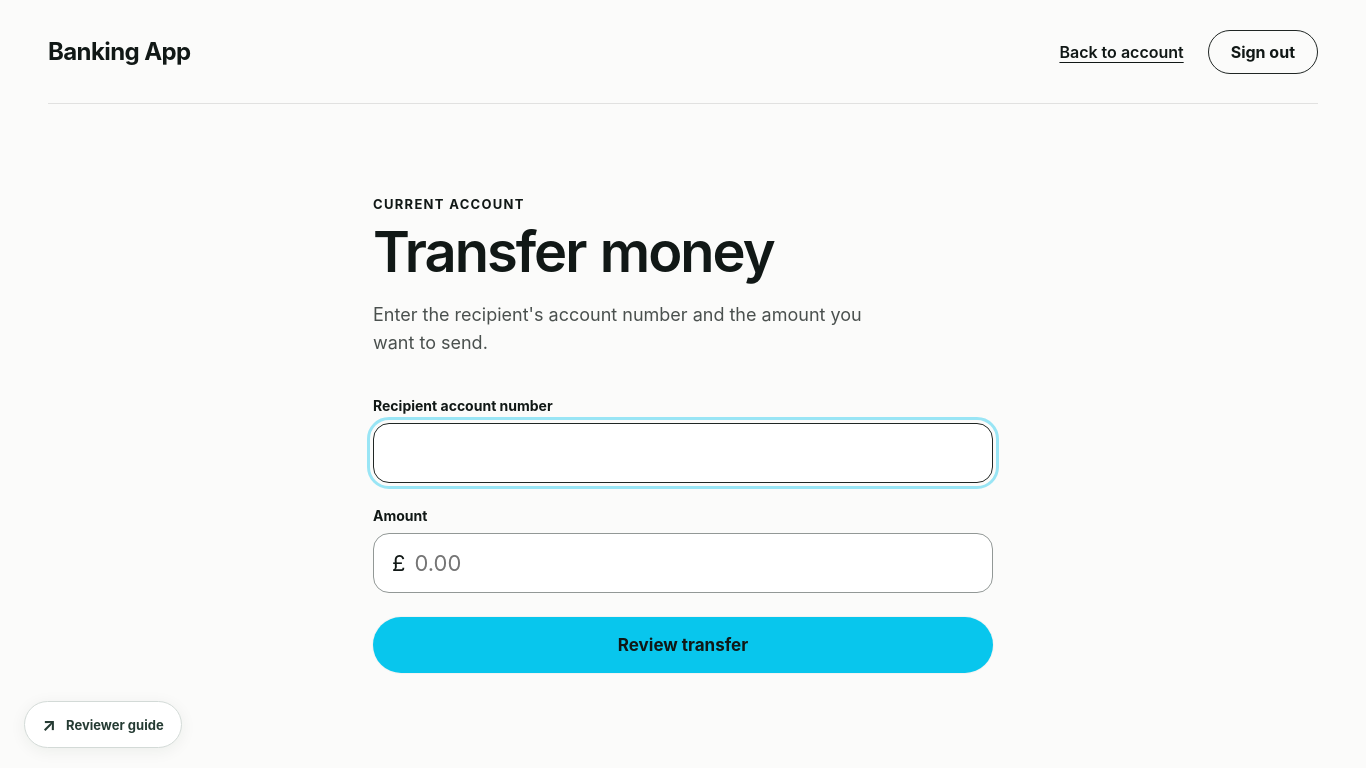
Scenario: transfer flow › sends the transfer and returns to the account with a confirmation
Type "61504" into the field labelled "Recipient account number" at (683, 453), box [373, 423, 993, 483]
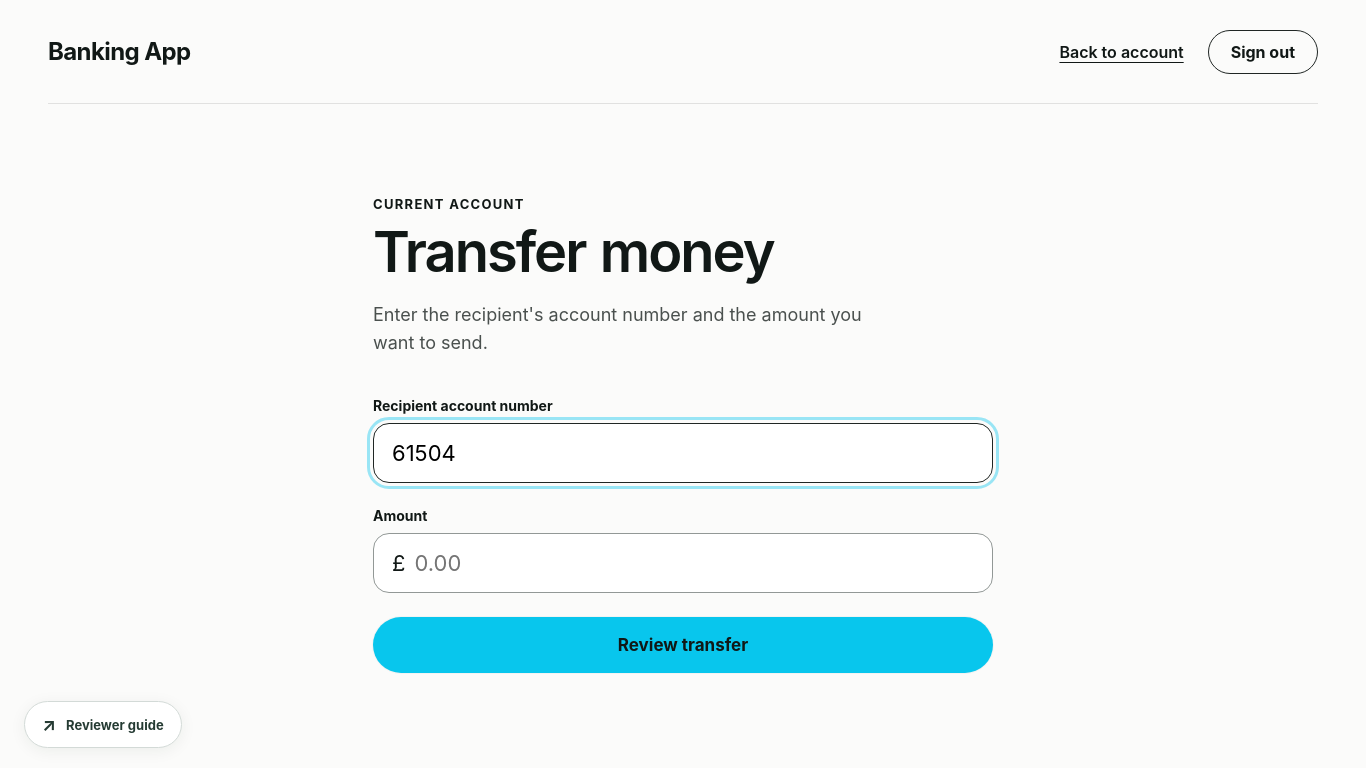
Type "25.50" into the field labelled "Amount" at (693, 563), box [412, 549, 974, 577]
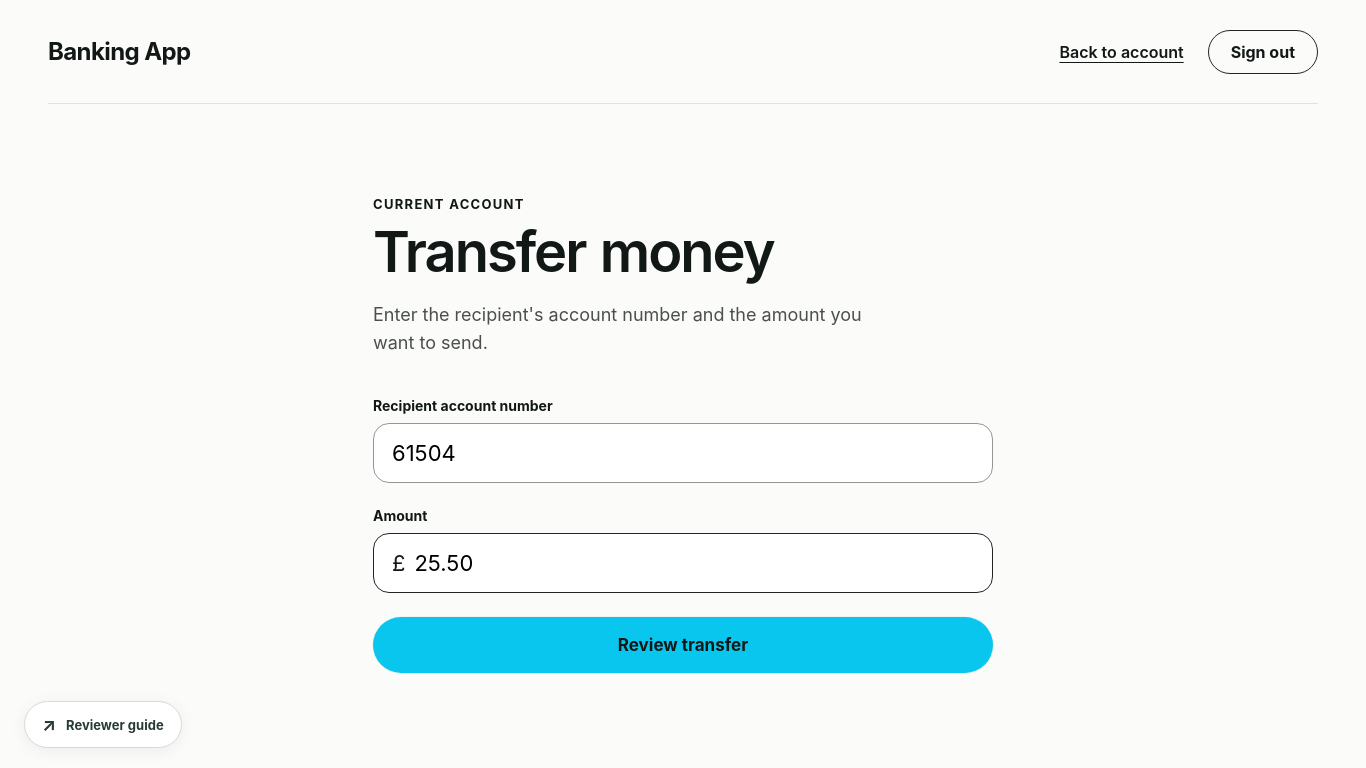
Click the button "Review transfer" at (683, 645), box [373, 617, 993, 673]
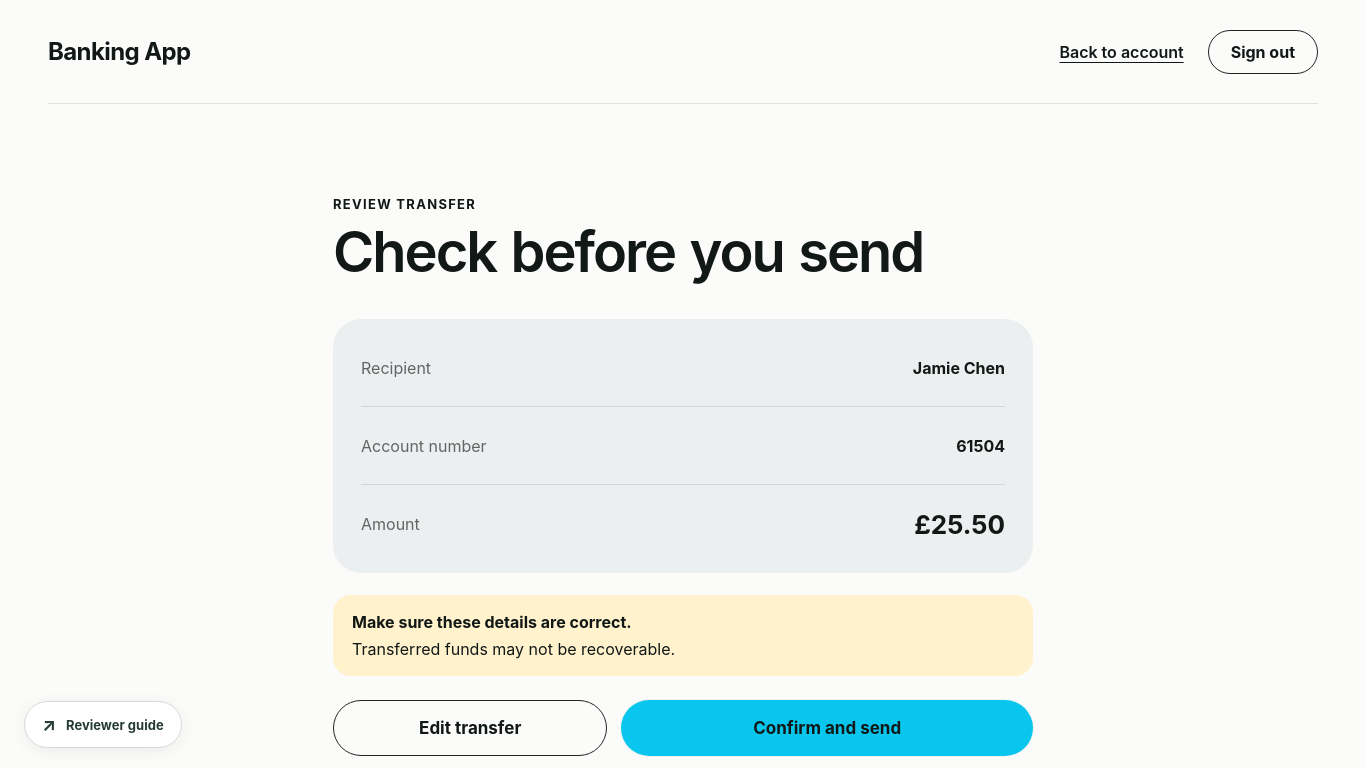
Click the button "Confirm and send" at (827, 728), box [621, 700, 1033, 756]
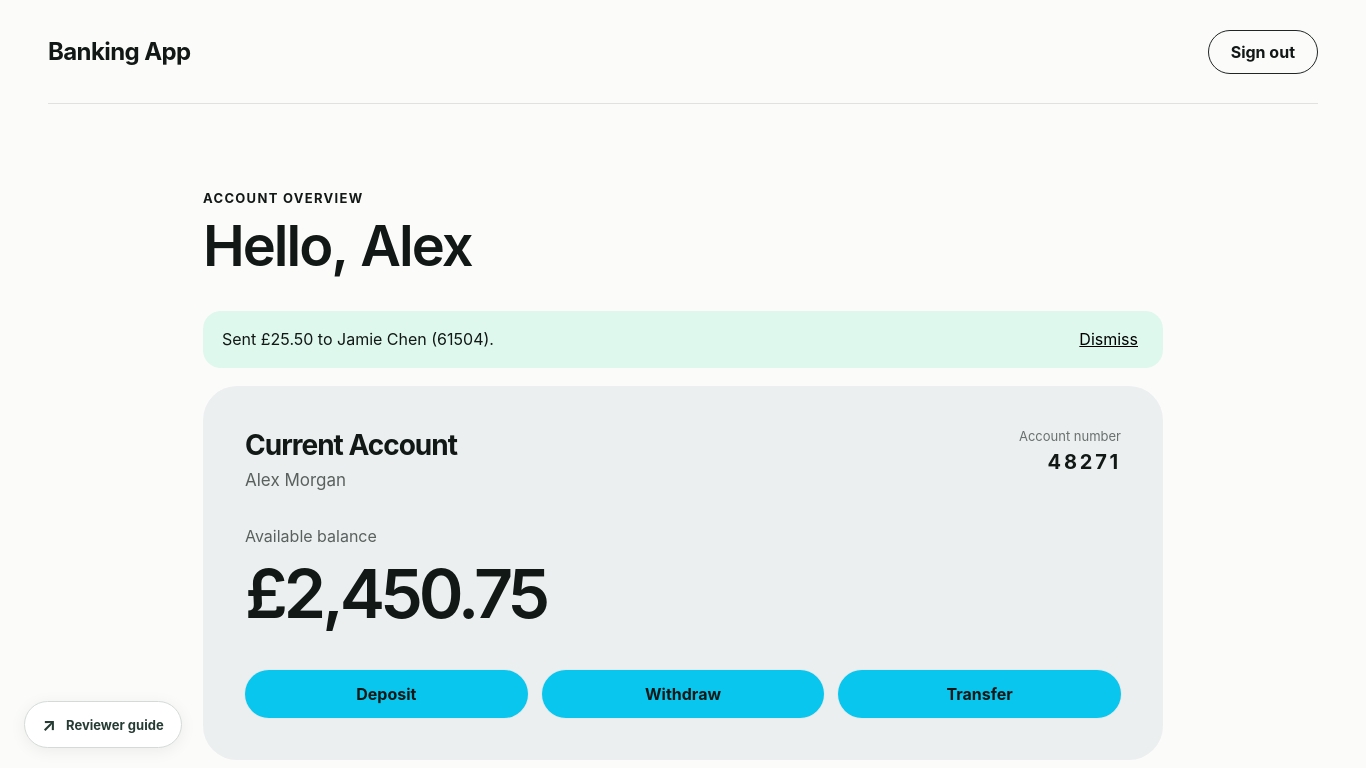
Now the message shows "Sent £25.50 to Jamie Chen (61504).", box [222, 329, 494, 349]
Now the heading "Hello, Alex" is shown, box [203, 212, 472, 280]
